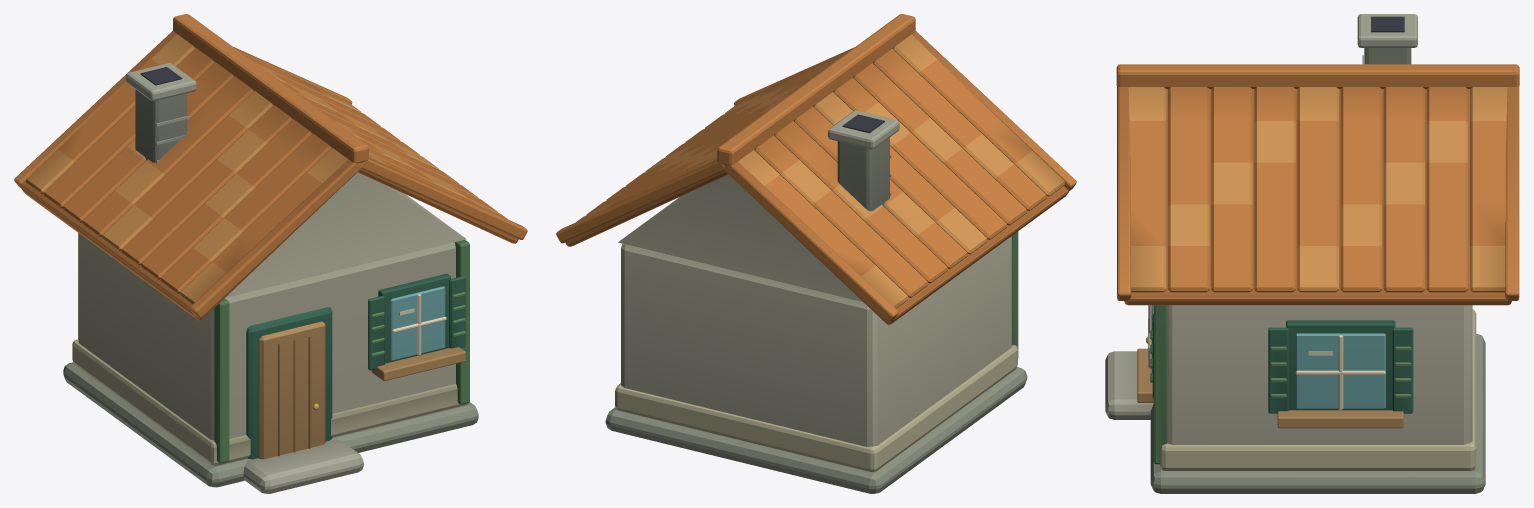
The model's file is house_cottage.glb.
3 views of the same model, side by side, from view 1: azimuth 30°, elevation 25°; view 2: azimuth 150°, elevation 25°; view 3: azimuth 270°, elevation 25° (orthographic). The views are drawn at different scales.
Parts seen in each view (by area): view 1: house_cottage; view 2: house_cottage; view 3: house_cottage.
Part boxes in pixels (x1,y1,x2,y2): house_cottage: [14, 14, 527, 493]; house_cottage: [556, 14, 1076, 493]; house_cottage: [1105, 14, 1519, 493].
Size of the model in its own units: 2.26 by 2.1 by 2.2.
